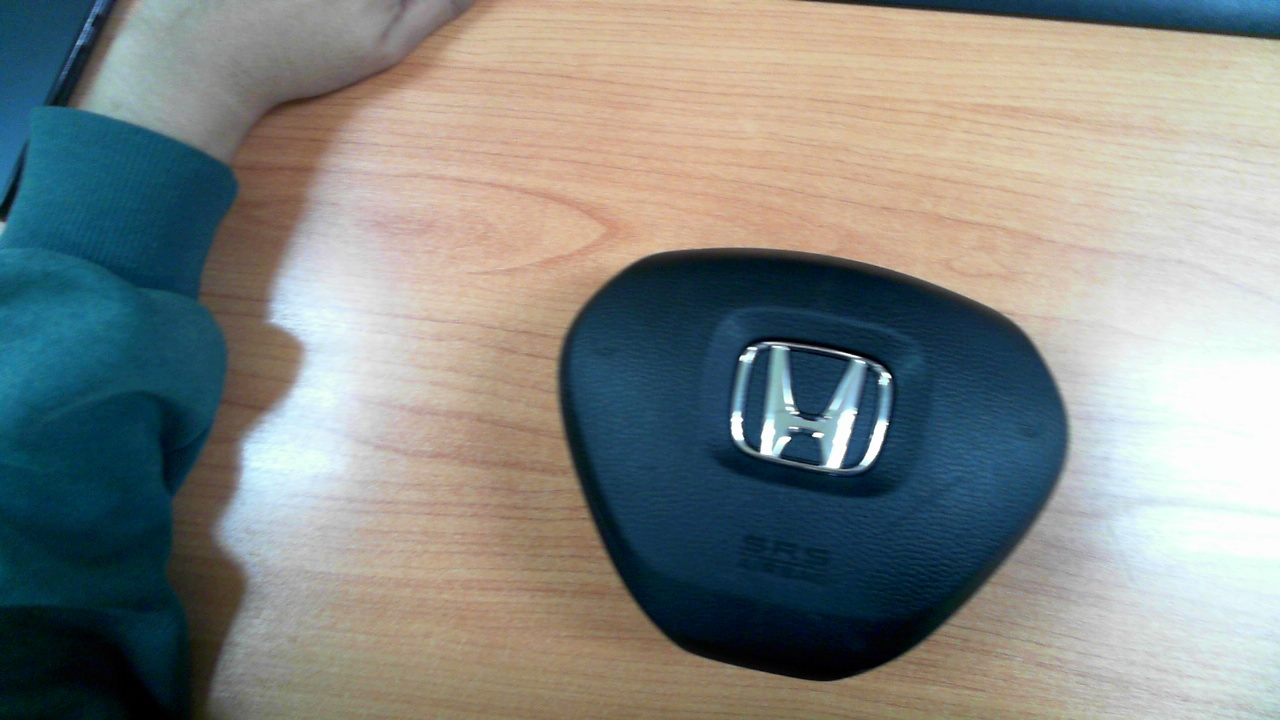Airbag: (558, 246, 1070, 683)
Honda: (730, 341, 892, 472)
